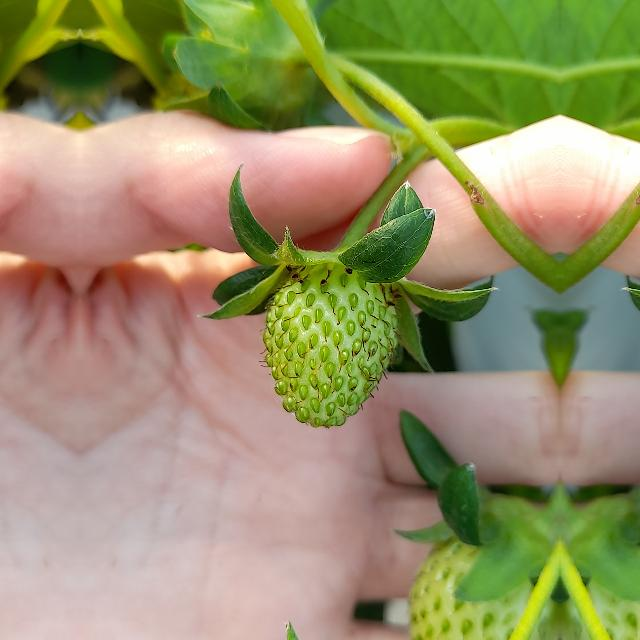Health_25: (258, 260, 402, 428)
